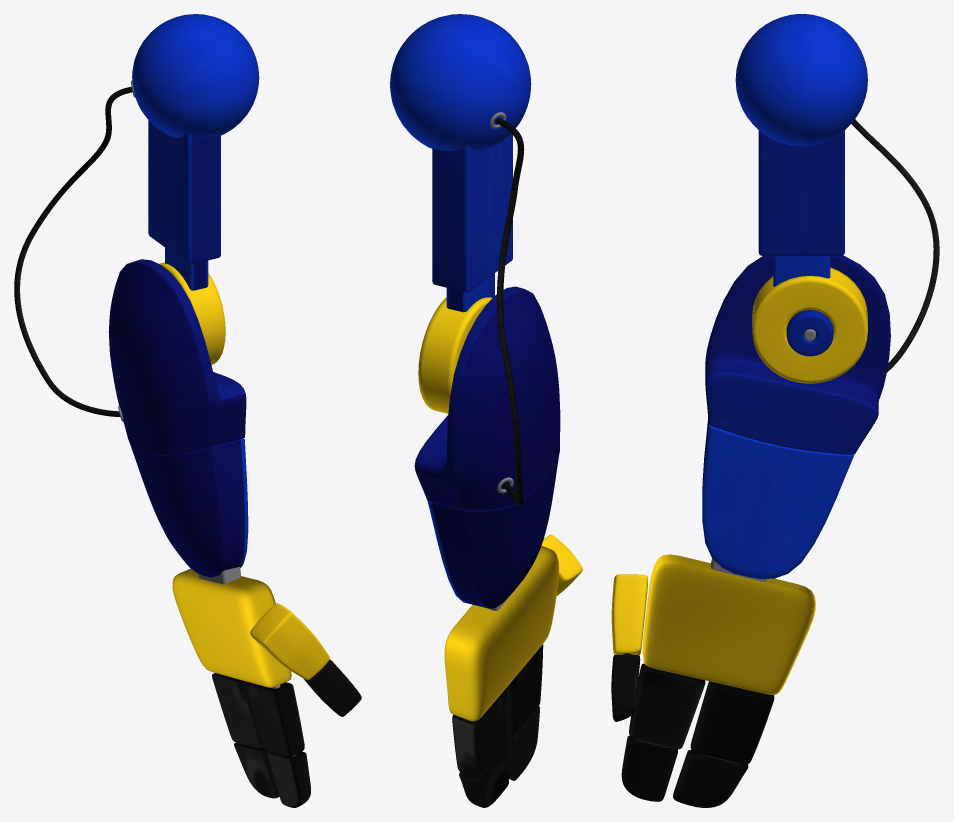
File: BotBrazoDer.obj
3 renders of one model, left to right at view 1: azimuth 30°, elevation 25°; view 2: azimuth 150°, elevation 25°; view 3: azimuth 270°, elevation 25°, orthographic. The views are drawn at different scales.
Parts seen in each view (by area): view 1: Object021, Object020, Object023, Object024, Object029, Line002, Object026, Object041, Object028, Object025, Object027; view 2: Object021, Object020, Object023, Object041, Object026, Line002, Object029, Object027, Object028, Object024; view 3: Object021, Object020, Object023, Object041, Object026, Object029, Object027, Object028, Object024, Line002, Object025.
Boxes of the visible parts, box(x1,y1,x2,y2) form: Object021: box(108, 259, 248, 577); Object020: box(132, 14, 259, 290); Object023: box(172, 568, 291, 687); Object024: box(250, 603, 329, 679); Object029: box(245, 682, 304, 756); Line002: box(14, 86, 132, 416); Object026: box(212, 673, 264, 748); Object041: box(159, 262, 225, 364); Object028: box(267, 751, 310, 807); Object025: box(303, 659, 361, 716); Object027: box(234, 742, 279, 798); Object021: box(414, 286, 560, 608); Object020: box(390, 14, 531, 312); Object023: box(444, 546, 559, 721); Object041: box(418, 297, 492, 413); Object026: box(452, 687, 507, 778); Line002: box(495, 118, 524, 506); Object029: box(507, 644, 543, 735); Object027: box(459, 744, 508, 807); Object028: box(506, 706, 539, 780); Object024: box(541, 534, 582, 595); Object021: box(702, 255, 890, 578); Object020: box(735, 14, 867, 286); Object023: box(642, 554, 815, 694); Object041: box(752, 267, 867, 383); Object026: box(690, 681, 774, 764); Object029: box(629, 663, 705, 749); Object027: box(673, 750, 748, 807); Object028: box(621, 736, 677, 801); Object024: box(611, 574, 647, 655); Line002: box(851, 119, 939, 372); Object025: box(611, 654, 640, 721).
Size of the model in its own units: 7.24 by 26.65 by 10.22.
5 materials, 3 textured.
